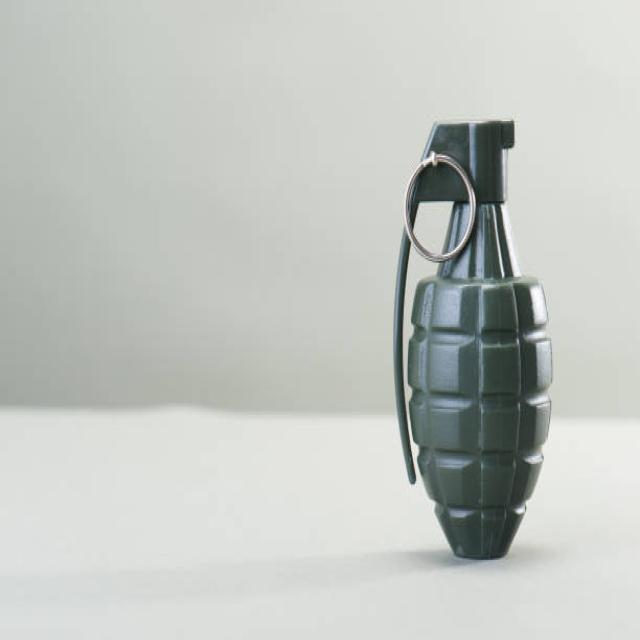grenade: (389, 107, 564, 577)
